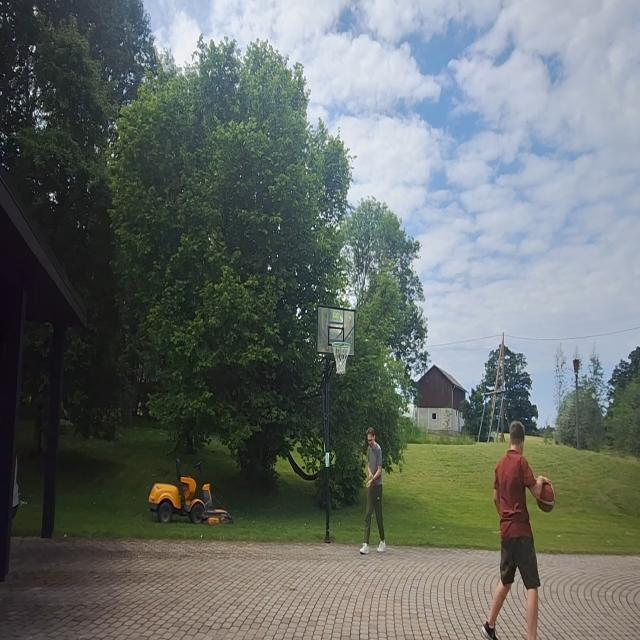basket: (331, 337, 352, 376)
player: (484, 417, 552, 640), (362, 425, 387, 556), (536, 476, 556, 515)
